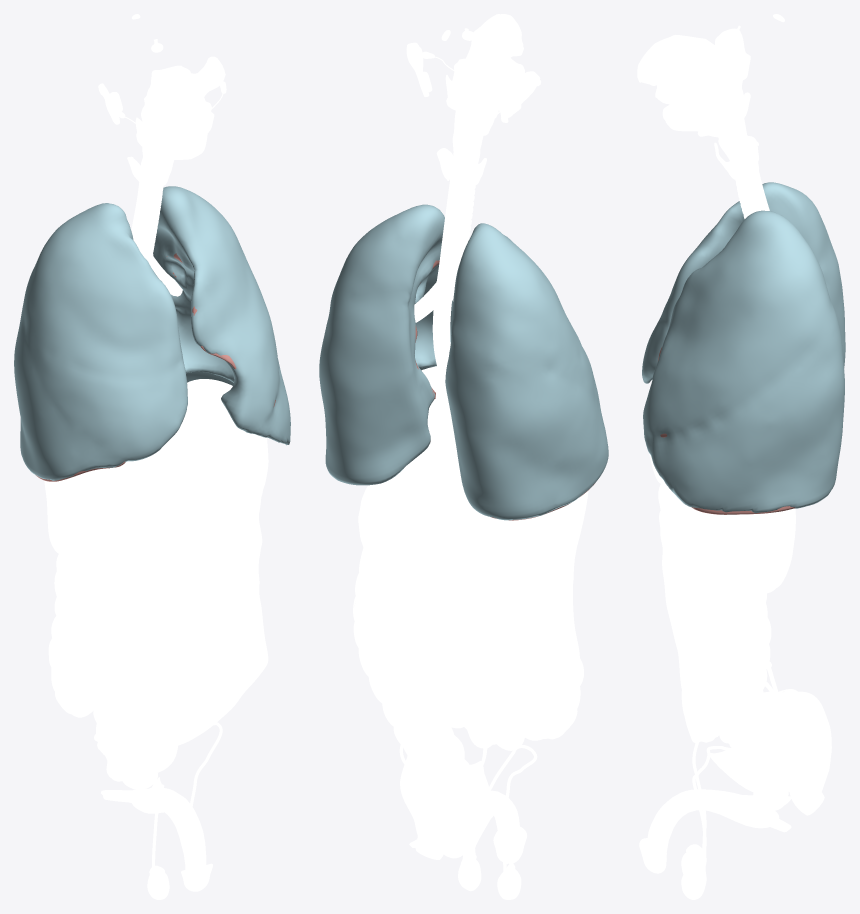
Rendered from visceral.glb.
The picture shows the model from 3 angles, left to right: view 1: azimuth 30°, elevation 25°; view 2: azimuth 150°, elevation 25°; view 3: azimuth 270°, elevation 25°; orthographic projection. The views are drawn at different scales.
Parts seen in each view (by area): view 1: Pleura, Greater omentum, Liver, Ascending colon, Corpus cavernosum of penis, Stomach, Gingiva, Mucosa of nasal cavity, Urinary bladder, Trachea, Mucosa of stomach, Parotid gland.l (+4 smaller); view 2: Pleura, Jejunum, Ascending colon, Descending colon, Sigmoid colon, Liver, Kidney.l, Oesophagus, Kidney.r, Stomach, Oropharynx, Corpus cavernosum of penis (+20 smaller); view 3: Pleura, Greater omentum, Descending colon, Sigmoid colon, Corpus cavernosum of penis, Mucosa of nasal cavity, Kidney.l, Urinary bladder, Gingiva, Mesocolic taenia, Nasopharynx, Stomach (+13 smaller).
Part boxes in pixels (x1,y1,x2,y2): Pleura: (14,186,290,480); Greater omentum: (65,493,268,747); Liver: (44,379,260,556); Ascending colon: (48,554,97,717); Corpus cavernosum of penis: (101,777,206,869); Stomach: (170,436,268,533); Gingiva: (135,101,211,159); Mucosa of nasal cavity: (159,65,210,128); Urinary bladder: (102,731,177,775); Trachea: (133,184,163,260); Mucosa of stomach: (227,461,263,509); Parotid gland.l: (191,56,225,96); Pleura: (319,204,608,520); Jejunum: (391,527,542,750); Ascending colon: (518,564,583,738); Descending colon: (354,548,464,775); Sigmoid colon: (400,727,464,859); Liver: (421,366,588,573); Kidney.l: (358,482,418,574); Oesophagus: (432,165,469,437); Kidney.r: (486,522,535,616); Stomach: (407,413,462,483); Oropharynx: (451,71,520,129); Corpus cavernosum of penis: (409,790,520,862); Pleura: (642,182,845,513); Greater omentum: (659,511,728,743); Descending colon: (715,530,796,755); Sigmoid colon: (788,691,831,815); Corpus cavernosum of penis: (646,789,791,854); Mucosa of nasal cavity: (637,35,706,86); Kidney.l: (755,508,795,593); Urinary bladder: (710,748,798,794); Gingiva: (655,82,718,131); Mesocolic taenia: (720,536,795,739); Nasopharynx: (705,39,743,89); Stomach: (658,482,740,537).
Size of the model in its own units: 0.2634 by 0.8931 by 0.1926.
